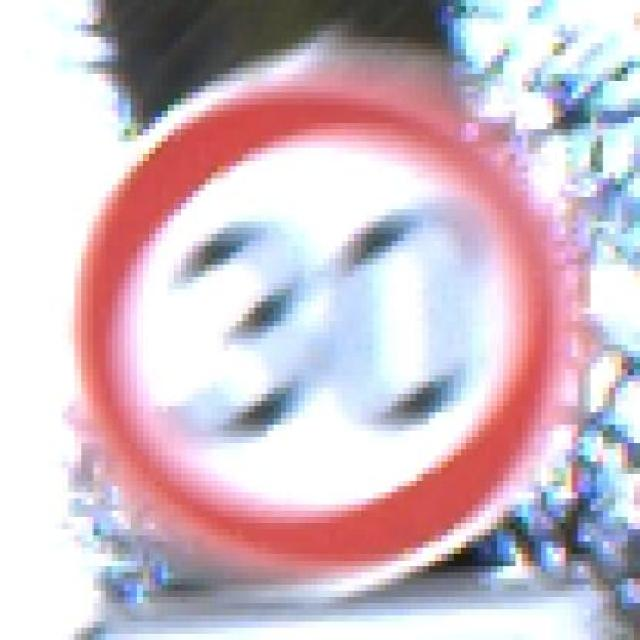Speed Limit 30 KMPh: (43, 86, 591, 597)
